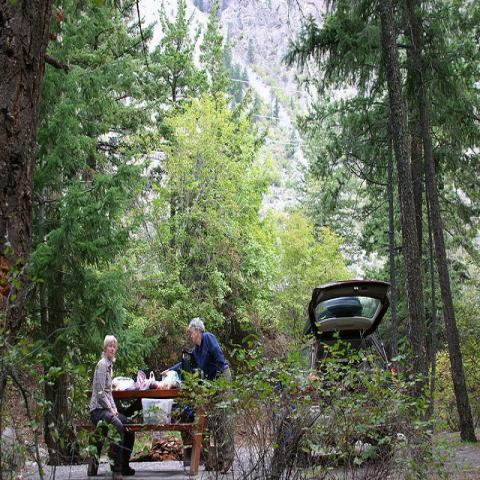car: (297, 280, 397, 376)
